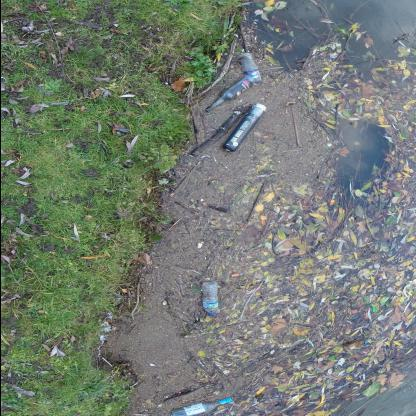cam: (205, 76, 255, 114), (170, 397, 235, 416)
metal: (222, 104, 267, 154)
plastik: (237, 54, 262, 84), (201, 283, 219, 317)
